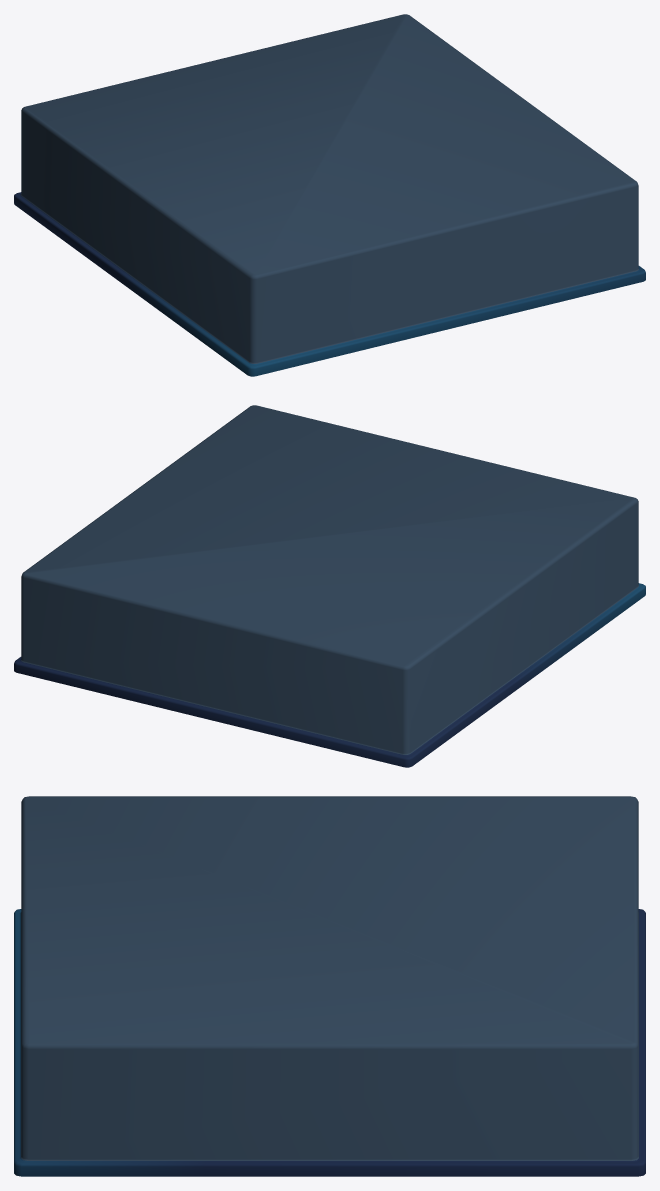
The model's file is platform.fbx.
3 views of the same model, one above another, from view 1: azimuth 30°, elevation 25°; view 2: azimuth 150°, elevation 25°; view 3: azimuth 270°, elevation 25° (orthographic). The views are drawn at different scales.
Parts seen in each view (by area): view 1: Plane; view 2: Plane; view 3: Plane.
Part boxes in pixels (x1,y1,x2,y2): Plane: (14,14,645,376); Plane: (14,405,645,767); Plane: (14,796,645,1176).
Bounding box in the file's own units: 606 × 141 × 631.
